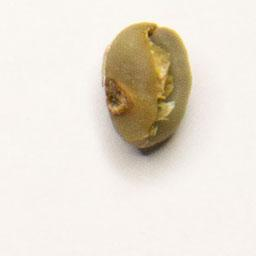peaberry: (98, 18, 196, 155)
